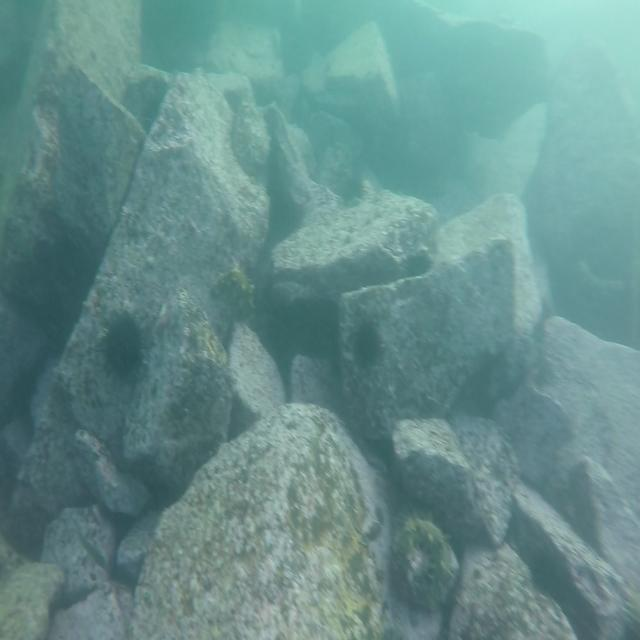echinus: (99, 312, 140, 383), (352, 318, 388, 374)
holothurian: (394, 512, 452, 606), (212, 266, 258, 318)
